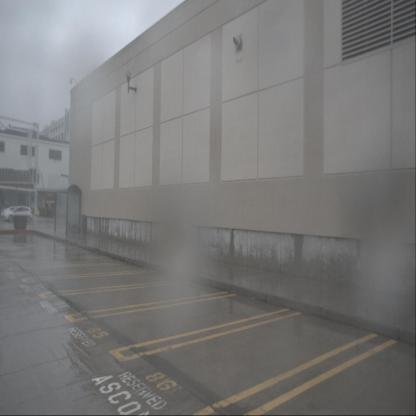vehicle-car: (3, 206, 33, 222), (0, 206, 26, 221)
